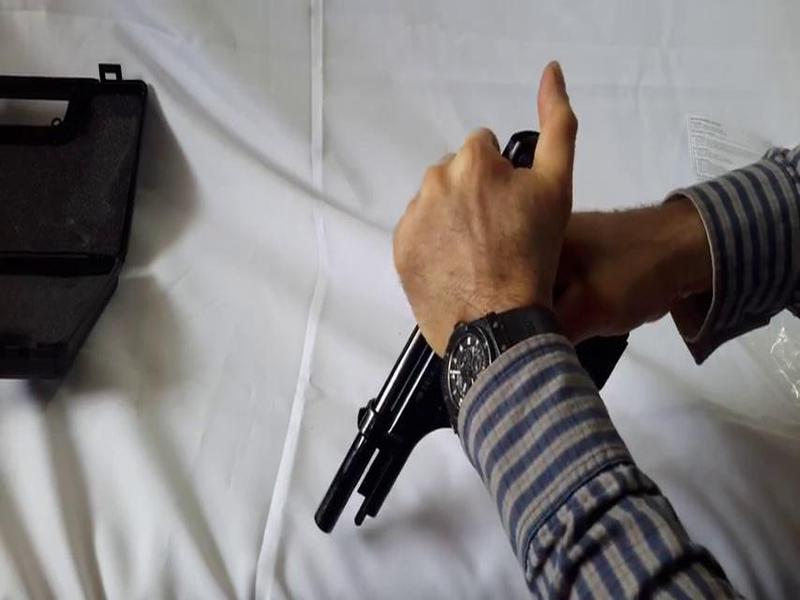Pistola: (292, 113, 636, 543)
